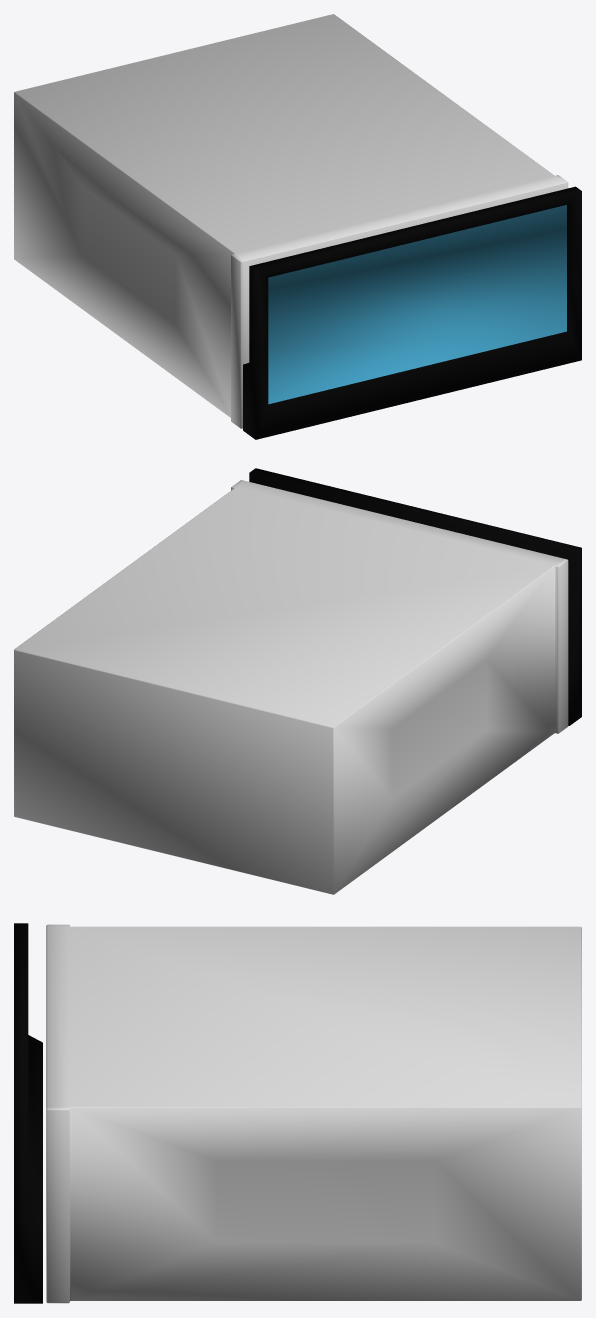
The picture shows the model from 3 angles, top to bottom: view 1: azimuth 30°, elevation 25°; view 2: azimuth 150°, elevation 25°; view 3: azimuth 270°, elevation 25°; orthographic projection. The views are drawn at different scales.
Parts seen in each view (by area): view 1: Cube; view 2: Cube; view 3: Cube.
Boxes of the visible parts, <box> form: Cube: <box>14,14,581,439</box>; Cube: <box>14,468,581,894</box>; Cube: <box>14,923,581,1303</box>.
Bounding box in the file's own units: 40.96 × 20.18 × 53.02.
